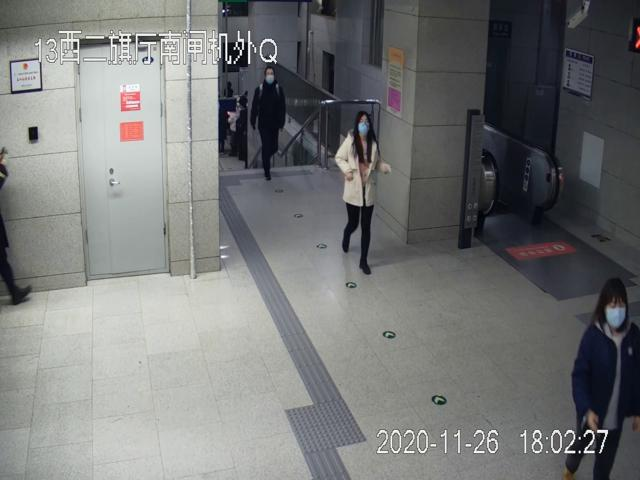person: (562, 275, 639, 480), (334, 108, 394, 276), (250, 58, 286, 185)
